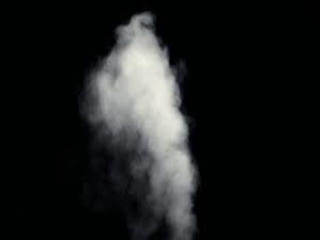smoke: (75, 18, 199, 234)
